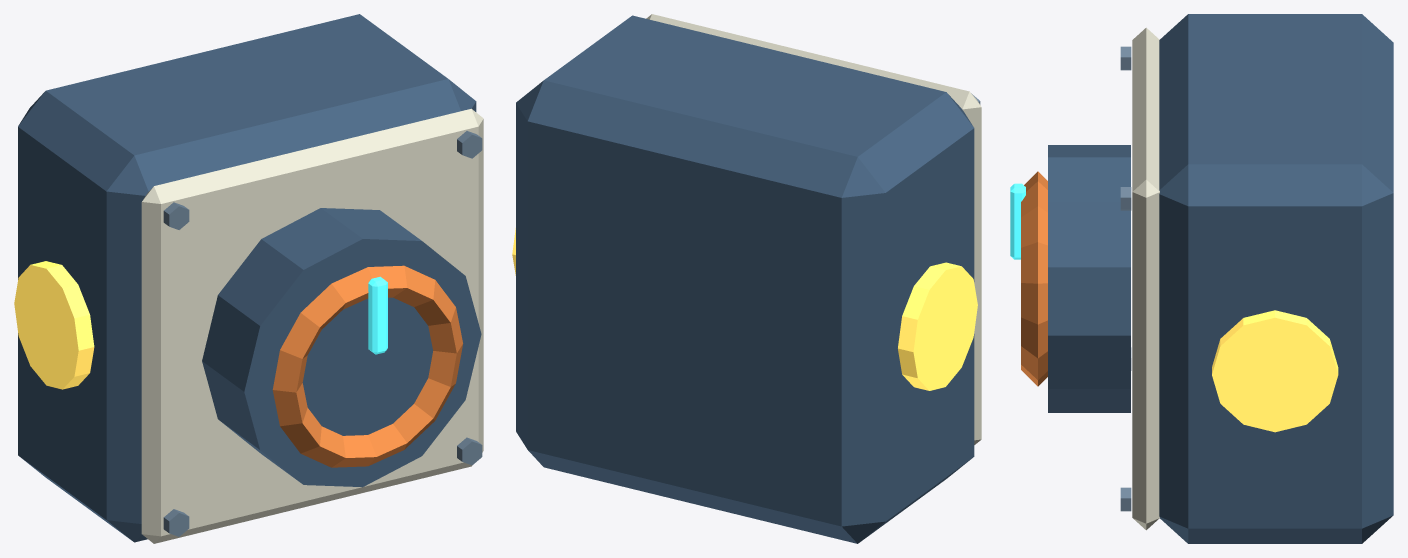
File: power_valve.glb
3 renders of one model, left to right at view 1: azimuth 30°, elevation 25°; view 2: azimuth 150°, elevation 25°; view 3: azimuth 270°, elevation 25°, orthographic.
Visible parts, largest first — view 1: Structural core.001, Front armor.001, Valve housing, Limiter dial, Power coupling, Dial pointer, Rivet.004, Rivet.005, Rivet.006, Rivet.007; view 2: Structural core.001, Power coupling, Front armor.001; view 3: Structural core.001, Valve housing, Front armor.001, Power coupling.001, Limiter dial, Dial pointer.
Part boxes in pixels (x1=…): Structural core.001: x1=18, y1=14, x2=476, y2=542; Front armor.001: x1=141, y1=108, x2=483, y2=543; Valve housing: x1=202, y1=208, x2=481, y2=487; Limiter dial: x1=272, y1=265, x2=463, y2=467; Power coupling: x1=14, y1=261, x2=94, y2=389; Dial pointer: x1=368, y1=276, x2=387, y2=354; Rivet.004: x1=163, y1=509, x2=189, y2=536; Rivet.005: x1=163, y1=202, x2=189, y2=229; Rivet.006: x1=457, y1=437, x2=482, y2=465; Rivet.007: x1=457, y1=131, x2=482, y2=158; Structural core.001: x1=516, y1=15, x2=974, y2=543; Power coupling: x1=898, y1=262, x2=977, y2=390; Front armor.001: x1=646, y1=14, x2=981, y2=444; Structural core.001: x1=1159, y1=14, x2=1393, y2=543; Valve housing: x1=1048, y1=145, x2=1130, y2=412; Front armor.001: x1=1132, y1=27, x2=1159, y2=530; Power coupling.001: x1=1212, y1=310, x2=1338, y2=432; Limiter dial: x1=1021, y1=171, x2=1047, y2=386; Dial pointer: x1=1010, y1=183, x2=1025, y2=259.
Size of the model in its own units: 1.15 by 1.06 by 0.97.
